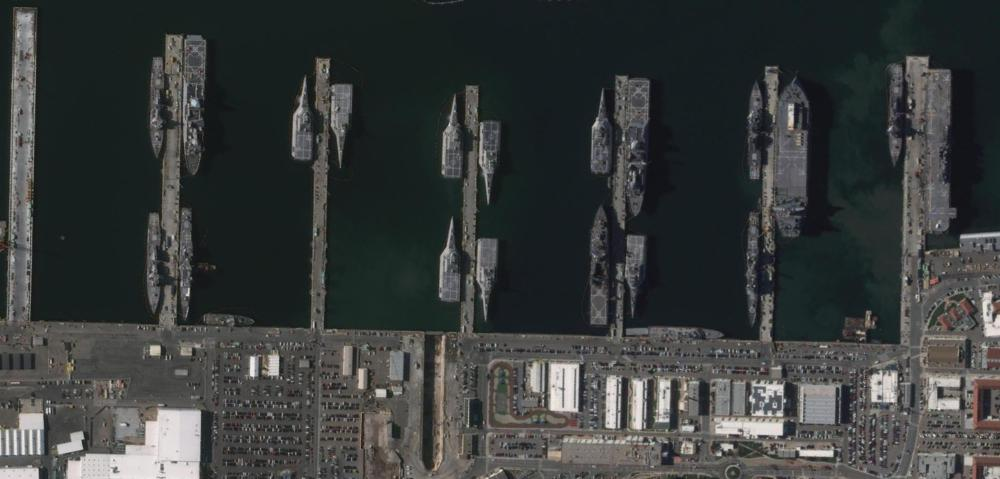amphiby: (178, 31, 214, 179), (626, 76, 649, 217)
destroyer: (743, 209, 763, 329), (179, 205, 193, 320)
fregate: (140, 207, 168, 318), (147, 55, 171, 162), (887, 62, 909, 168), (747, 80, 768, 184)
littoral combat ship: (289, 68, 316, 162), (438, 214, 464, 306), (590, 84, 615, 175), (439, 91, 464, 180), (330, 79, 356, 164), (477, 119, 502, 204), (478, 236, 500, 324), (625, 231, 645, 320)
pha: (924, 65, 964, 242)
supply: (774, 78, 812, 245)
